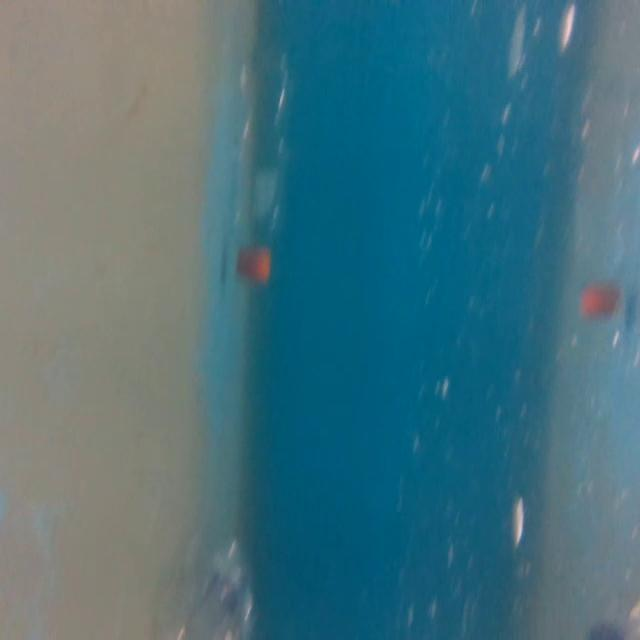plastic bottle: (230, 45, 298, 287)
